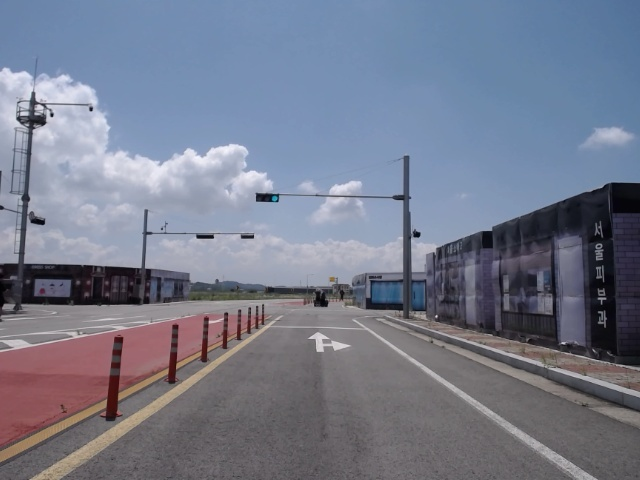green_3: (257, 194, 279, 203)
